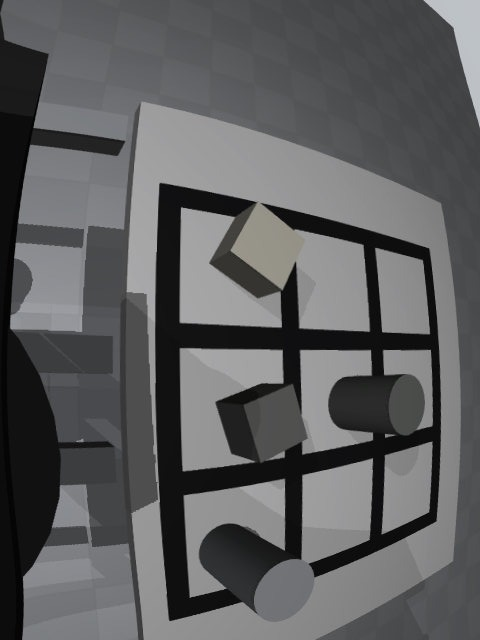can: (199, 524, 315, 622)
cube: (215, 384, 308, 463)
cylinder: (328, 374, 425, 436)
foam: (209, 201, 305, 299)
